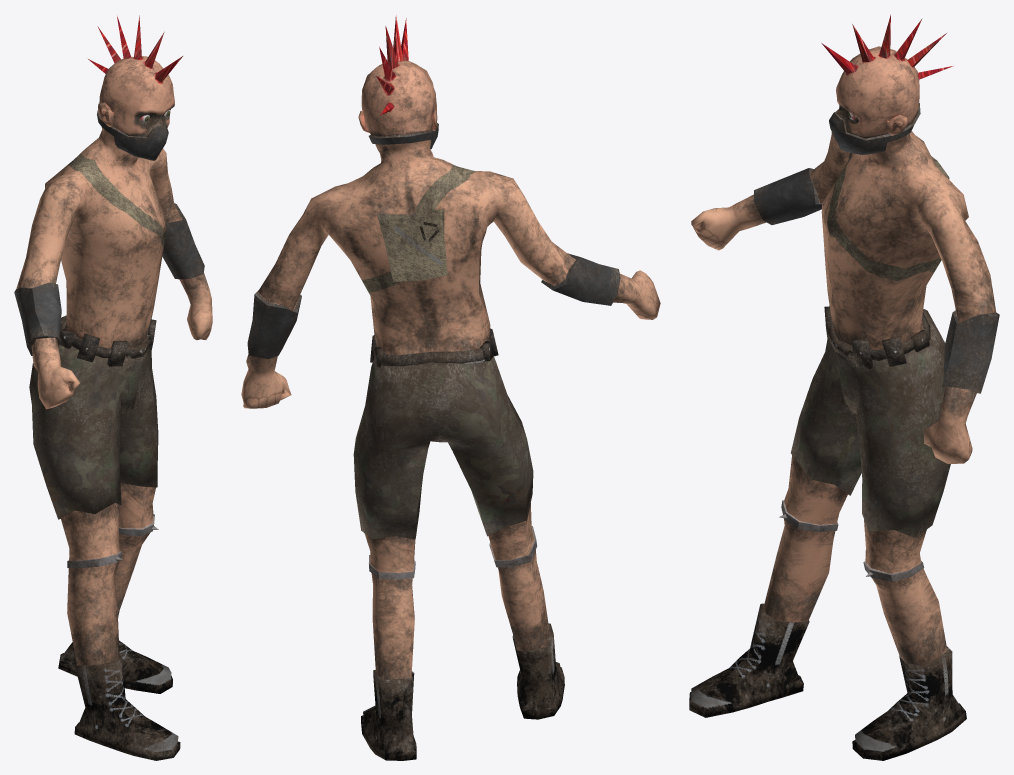
File: Anim_interruptor_npc2.0032.obj
3 renders of one model, left to right at view 1: azimuth 30°, elevation 25°; view 2: azimuth 150°, elevation 25°; view 3: azimuth 270°, elevation 25°, orthographic. The views are drawn at different scales.
Parts seen in each view (by area): view 1: polySurface1; view 2: polySurface1; view 3: polySurface1.
Part boxes in pixels (x1,y1,x2,y2): polySurface1: [14, 15, 212, 760]; polySurface1: [241, 15, 660, 760]; polySurface1: [689, 14, 999, 760].
Size of the model in its own units: 4.43 by 10.09 by 3.87.
